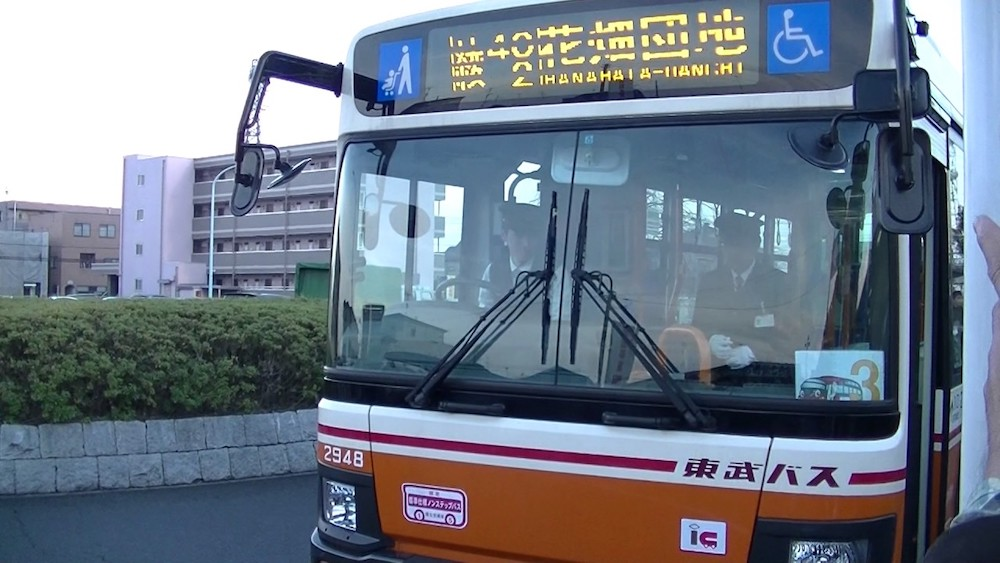destination: (424, 0, 763, 104)
